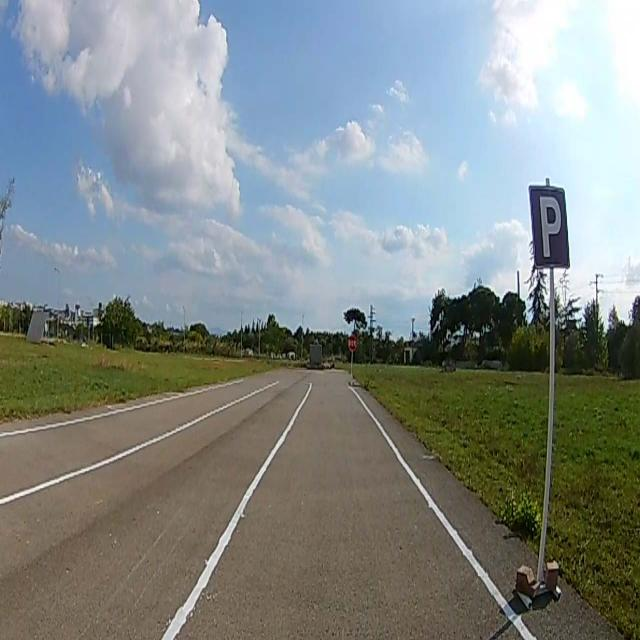park: (528, 186, 570, 266)
